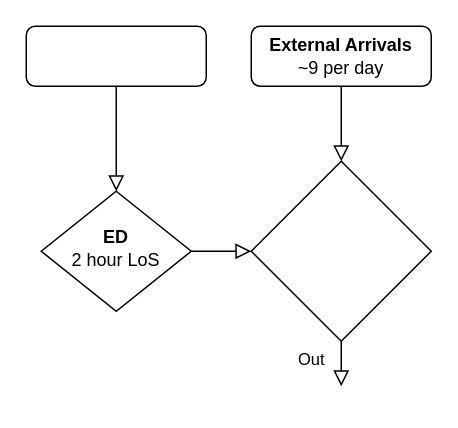
This 458x428 diagram has some shape labels left out. Each missing label, with the box of its shape:
ED Arrivals ~38 per day: (25, 25, 206, 86)
MRU 8 hour Los 24 hour max: (250, 160, 431, 341)
